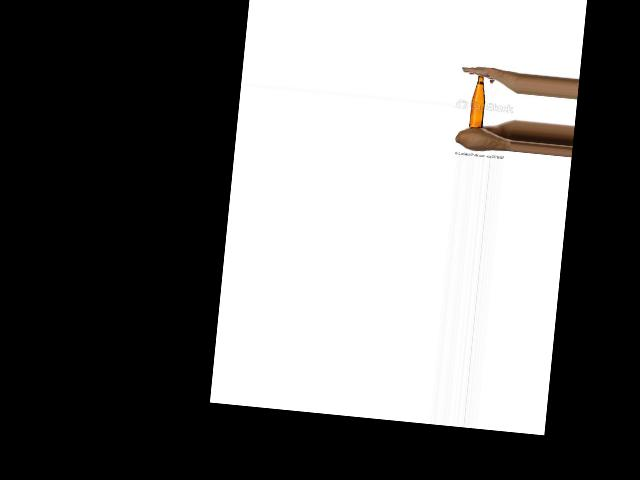beer: (469, 74, 488, 128)
